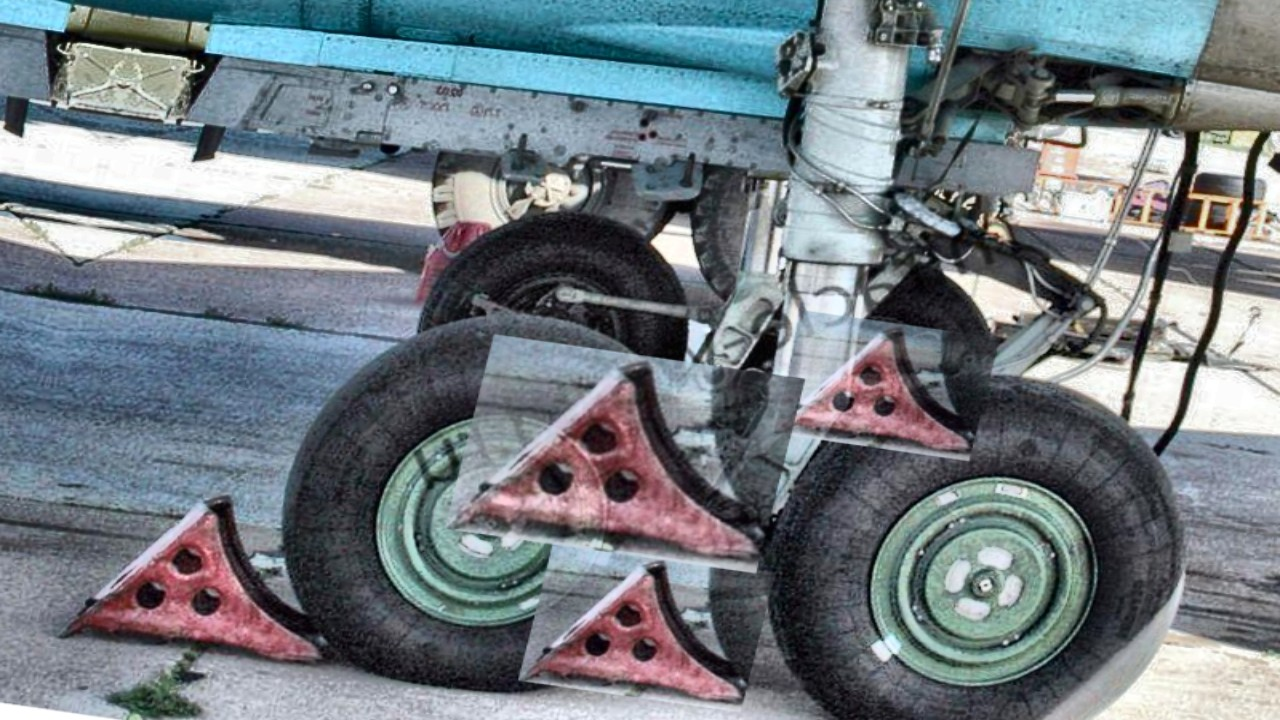chock: (445, 334, 805, 573), (55, 474, 361, 675), (518, 541, 776, 712), (774, 310, 1000, 461)
wheel: (238, 282, 743, 719), (724, 343, 1234, 720), (413, 194, 717, 374), (840, 255, 1022, 393)
